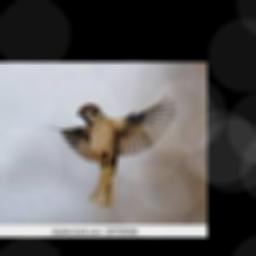Sparrow: (49, 93, 177, 208)
